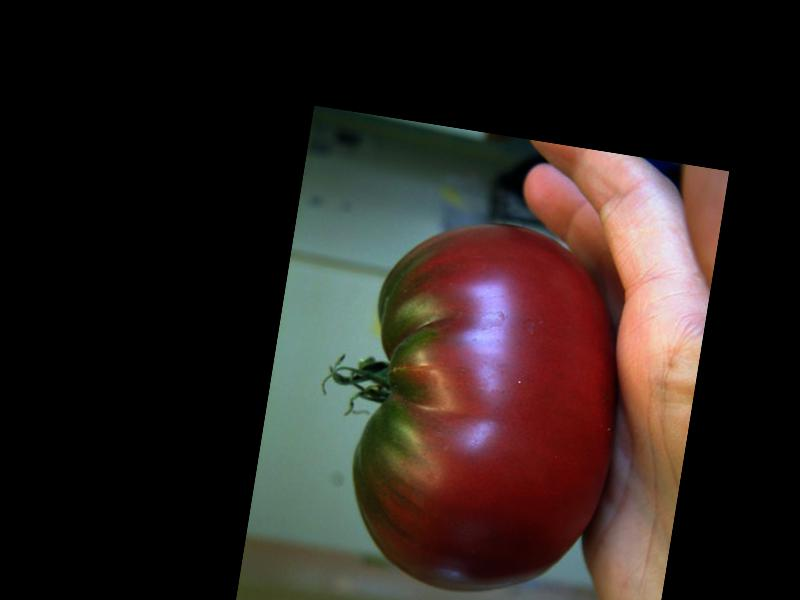Tomato: (334, 206, 643, 600)
